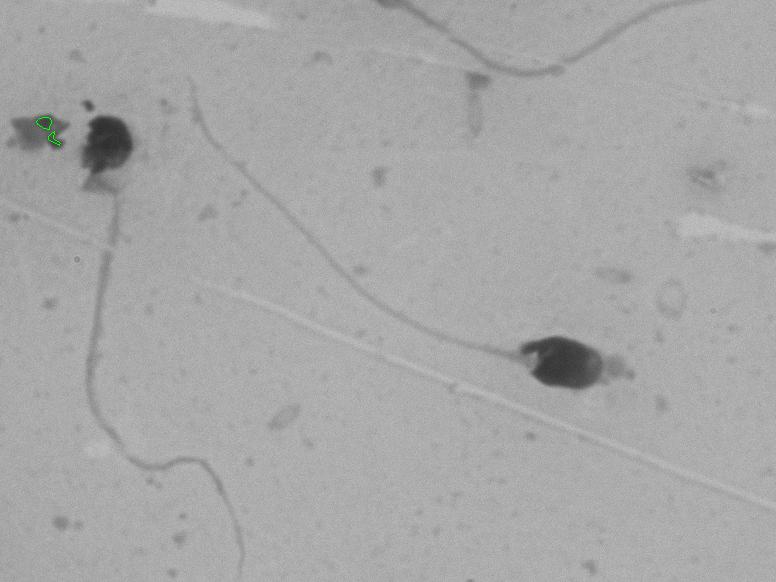Abnormal: (199, 51, 627, 429), (40, 90, 197, 524)
